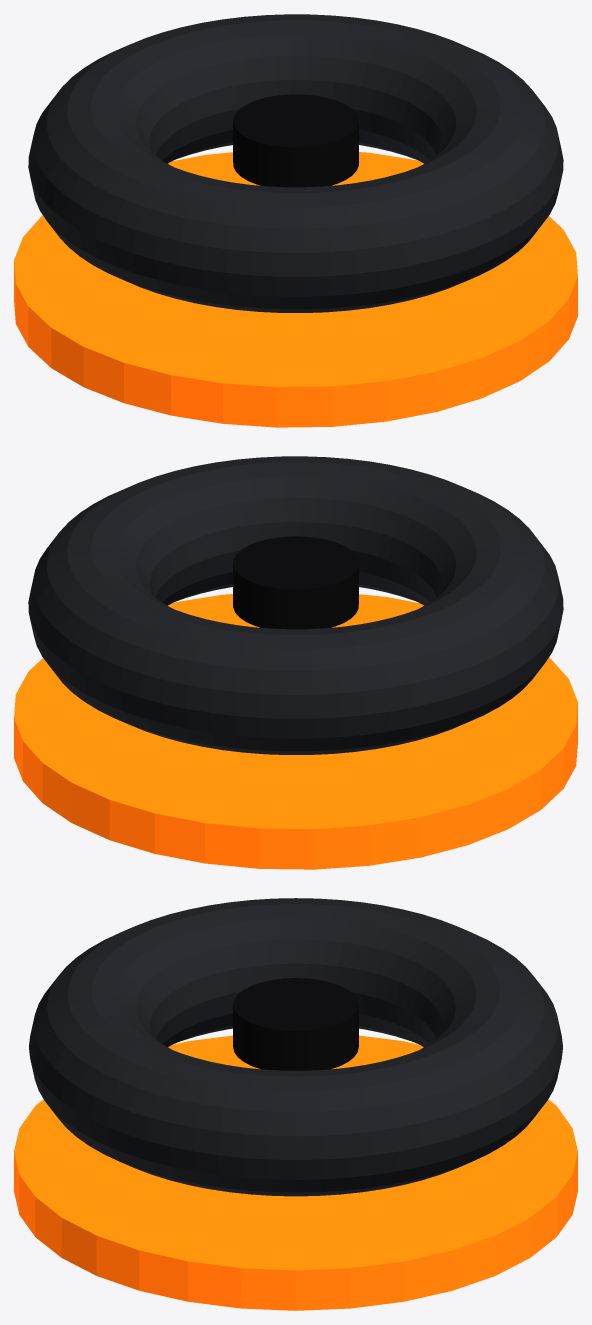
The model's file is fitness_weight_plate.dae.
3 renders of one model, top to bottom at view 1: azimuth 30°, elevation 25°; view 2: azimuth 150°, elevation 25°; view 3: azimuth 270°, elevation 25°, orthographic.
Parts seen in each view (by area): view 1: 02_11_Popular_Fitness_Weight_Plate_part_01, 02_11_Popular_Fitness_Weight_Plate_ROOT_base, 02_11_Popular_Fitness_Weight_Plate_part_02; view 2: 02_11_Popular_Fitness_Weight_Plate_part_01, 02_11_Popular_Fitness_Weight_Plate_ROOT_base, 02_11_Popular_Fitness_Weight_Plate_part_02; view 3: 02_11_Popular_Fitness_Weight_Plate_part_01, 02_11_Popular_Fitness_Weight_Plate_ROOT_base, 02_11_Popular_Fitness_Weight_Plate_part_02.
Boxes of the visible parts, x1,y1,x2,y2 form: 02_11_Popular_Fitness_Weight_Plate_part_01: (28, 14, 563, 312); 02_11_Popular_Fitness_Weight_Plate_ROOT_base: (14, 152, 577, 427); 02_11_Popular_Fitness_Weight_Plate_part_02: (233, 94, 358, 187); 02_11_Popular_Fitness_Weight_Plate_part_01: (28, 456, 563, 754); 02_11_Popular_Fitness_Weight_Plate_ROOT_base: (14, 594, 577, 869); 02_11_Popular_Fitness_Weight_Plate_part_02: (233, 536, 358, 629); 02_11_Popular_Fitness_Weight_Plate_part_01: (29, 898, 562, 1196); 02_11_Popular_Fitness_Weight_Plate_ROOT_base: (14, 1035, 577, 1310); 02_11_Popular_Fitness_Weight_Plate_part_02: (233, 978, 358, 1070).
Bounding box in the file's own units: 0.76 × 0.2994 × 0.76.
